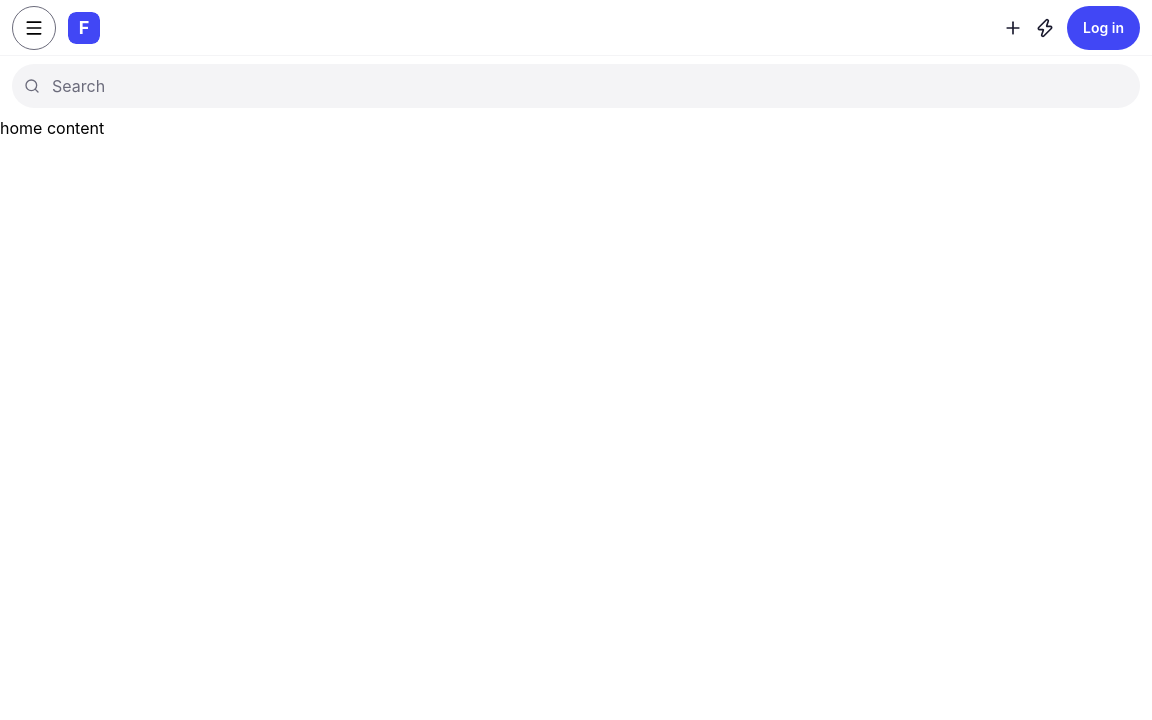
Test: AppShell › closes the drawer when the hamburger is clicked again while open
The image size is (1152, 720).
Click the button named "Open menu".
click(34, 28)  # box [12,6,56,50]
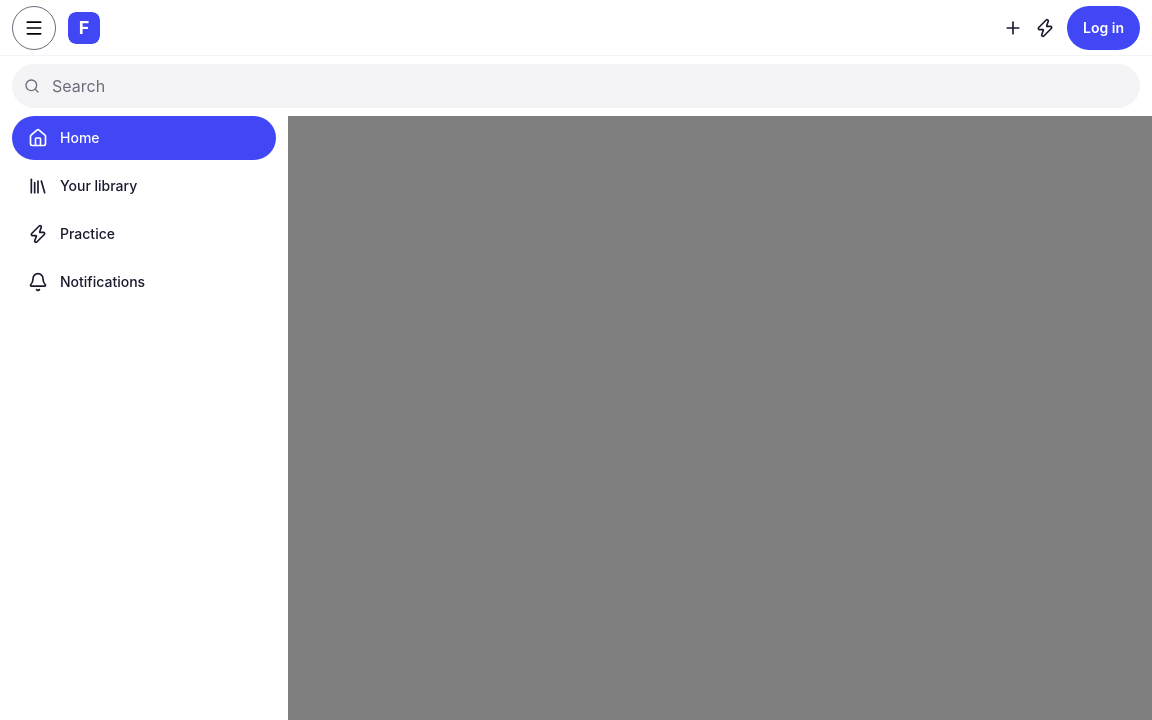
Check: the dialog is shown, box [0,0,288,719]
Click the button named "Open menu".
click(34, 28)  # box [12,6,56,50]
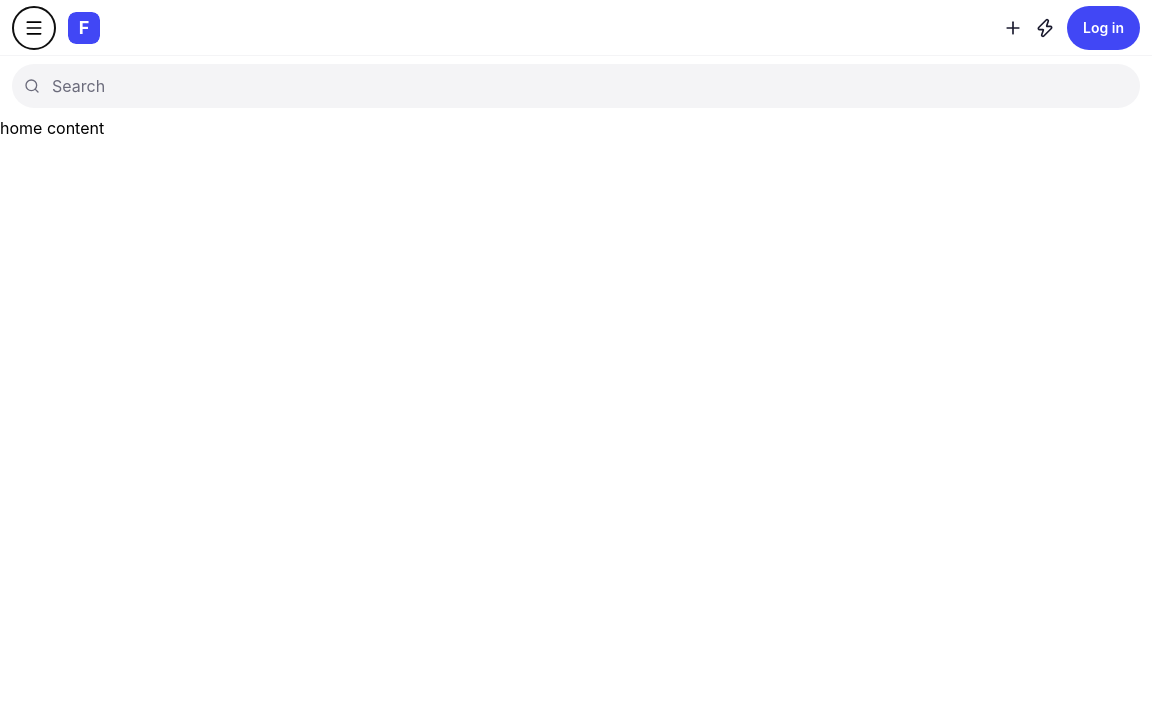
Check: the dialog is gone
